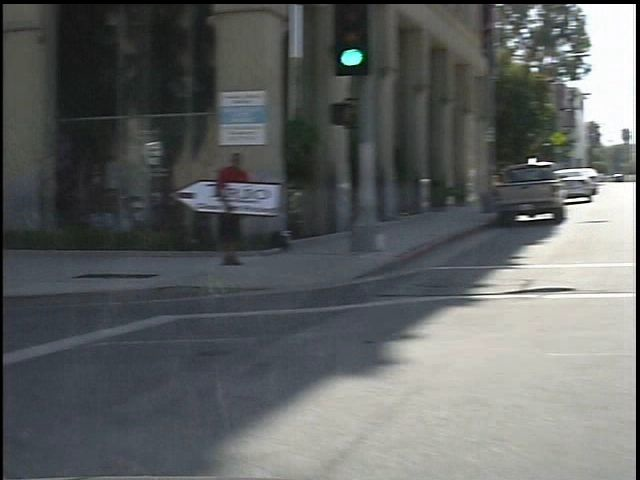person: (197, 146, 240, 273)
